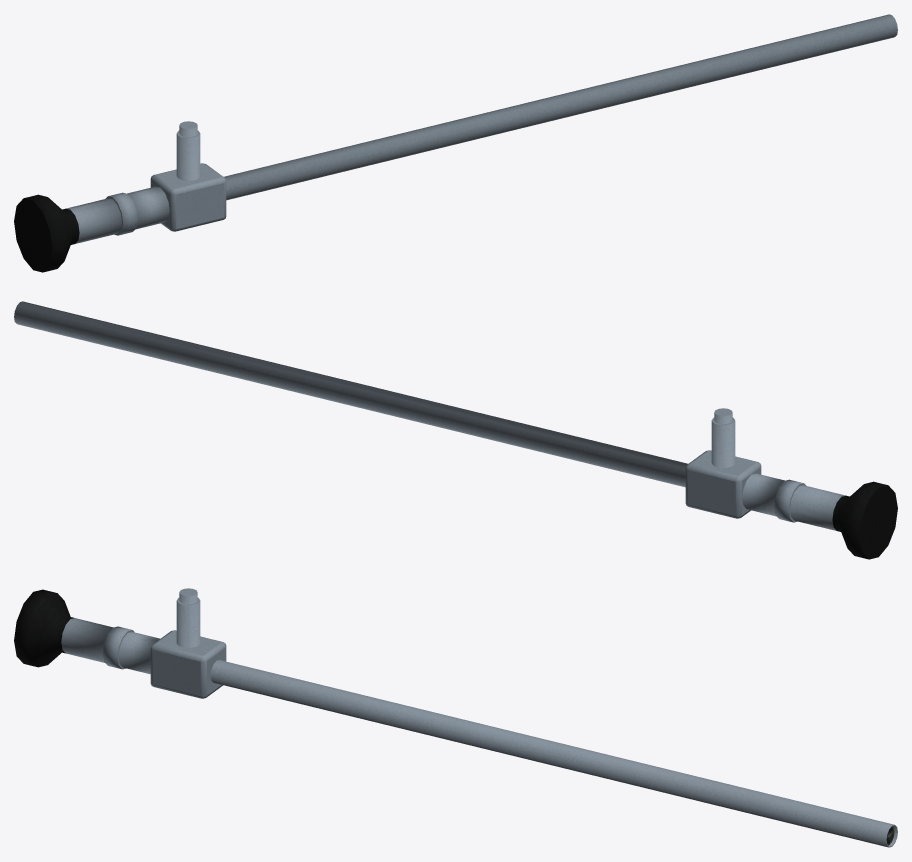
Rendered from laparoscope.fbx.
The picture shows the model from 3 angles, top to bottom: view 1: azimuth 30°, elevation 25°; view 2: azimuth 150°, elevation 25°; view 3: azimuth 330°, elevation 25°; orthographic projection.
Parts seen in each view (by area): view 1: Laparoscope; view 2: Laparoscope; view 3: Laparoscope.
Boxes of the visible parts, bbox=[...] form: Laparoscope: bbox=[14, 14, 897, 272]; Laparoscope: bbox=[14, 301, 897, 559]; Laparoscope: bbox=[14, 588, 897, 847].
Bounding box in the file's own units: 0.4203 × 0.0501 × 0.0325.
